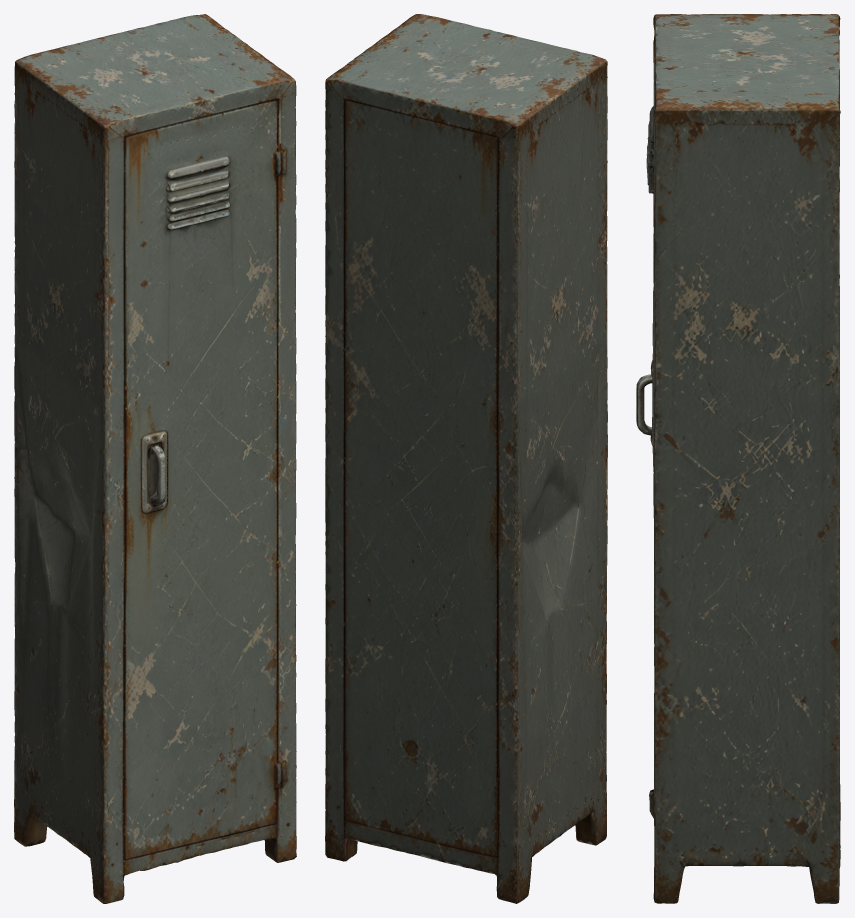
Rendered from SteelLocker.fbx.
3 renders of one model, left to right at view 1: azimuth 30°, elevation 25°; view 2: azimuth 150°, elevation 25°; view 3: azimuth 270°, elevation 25°, orthographic. The views are drawn at different scales.
Visible parts, largest first — view 1: texture_mapping; view 2: texture_mapping; view 3: texture_mapping.
Boxes of the visible parts, <box> form: texture_mapping: <box>14,14,296,903</box>; texture_mapping: <box>325,14,607,903</box>; texture_mapping: <box>636,14,840,903</box>.
Bounding box in the file's own units: 0.2595 × 0.2326 × 1.
1 material, 1 textured.
